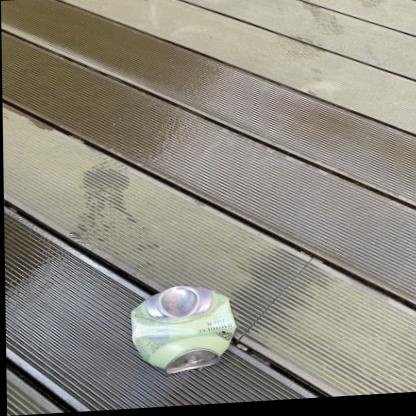trash: (131, 286, 235, 373)
